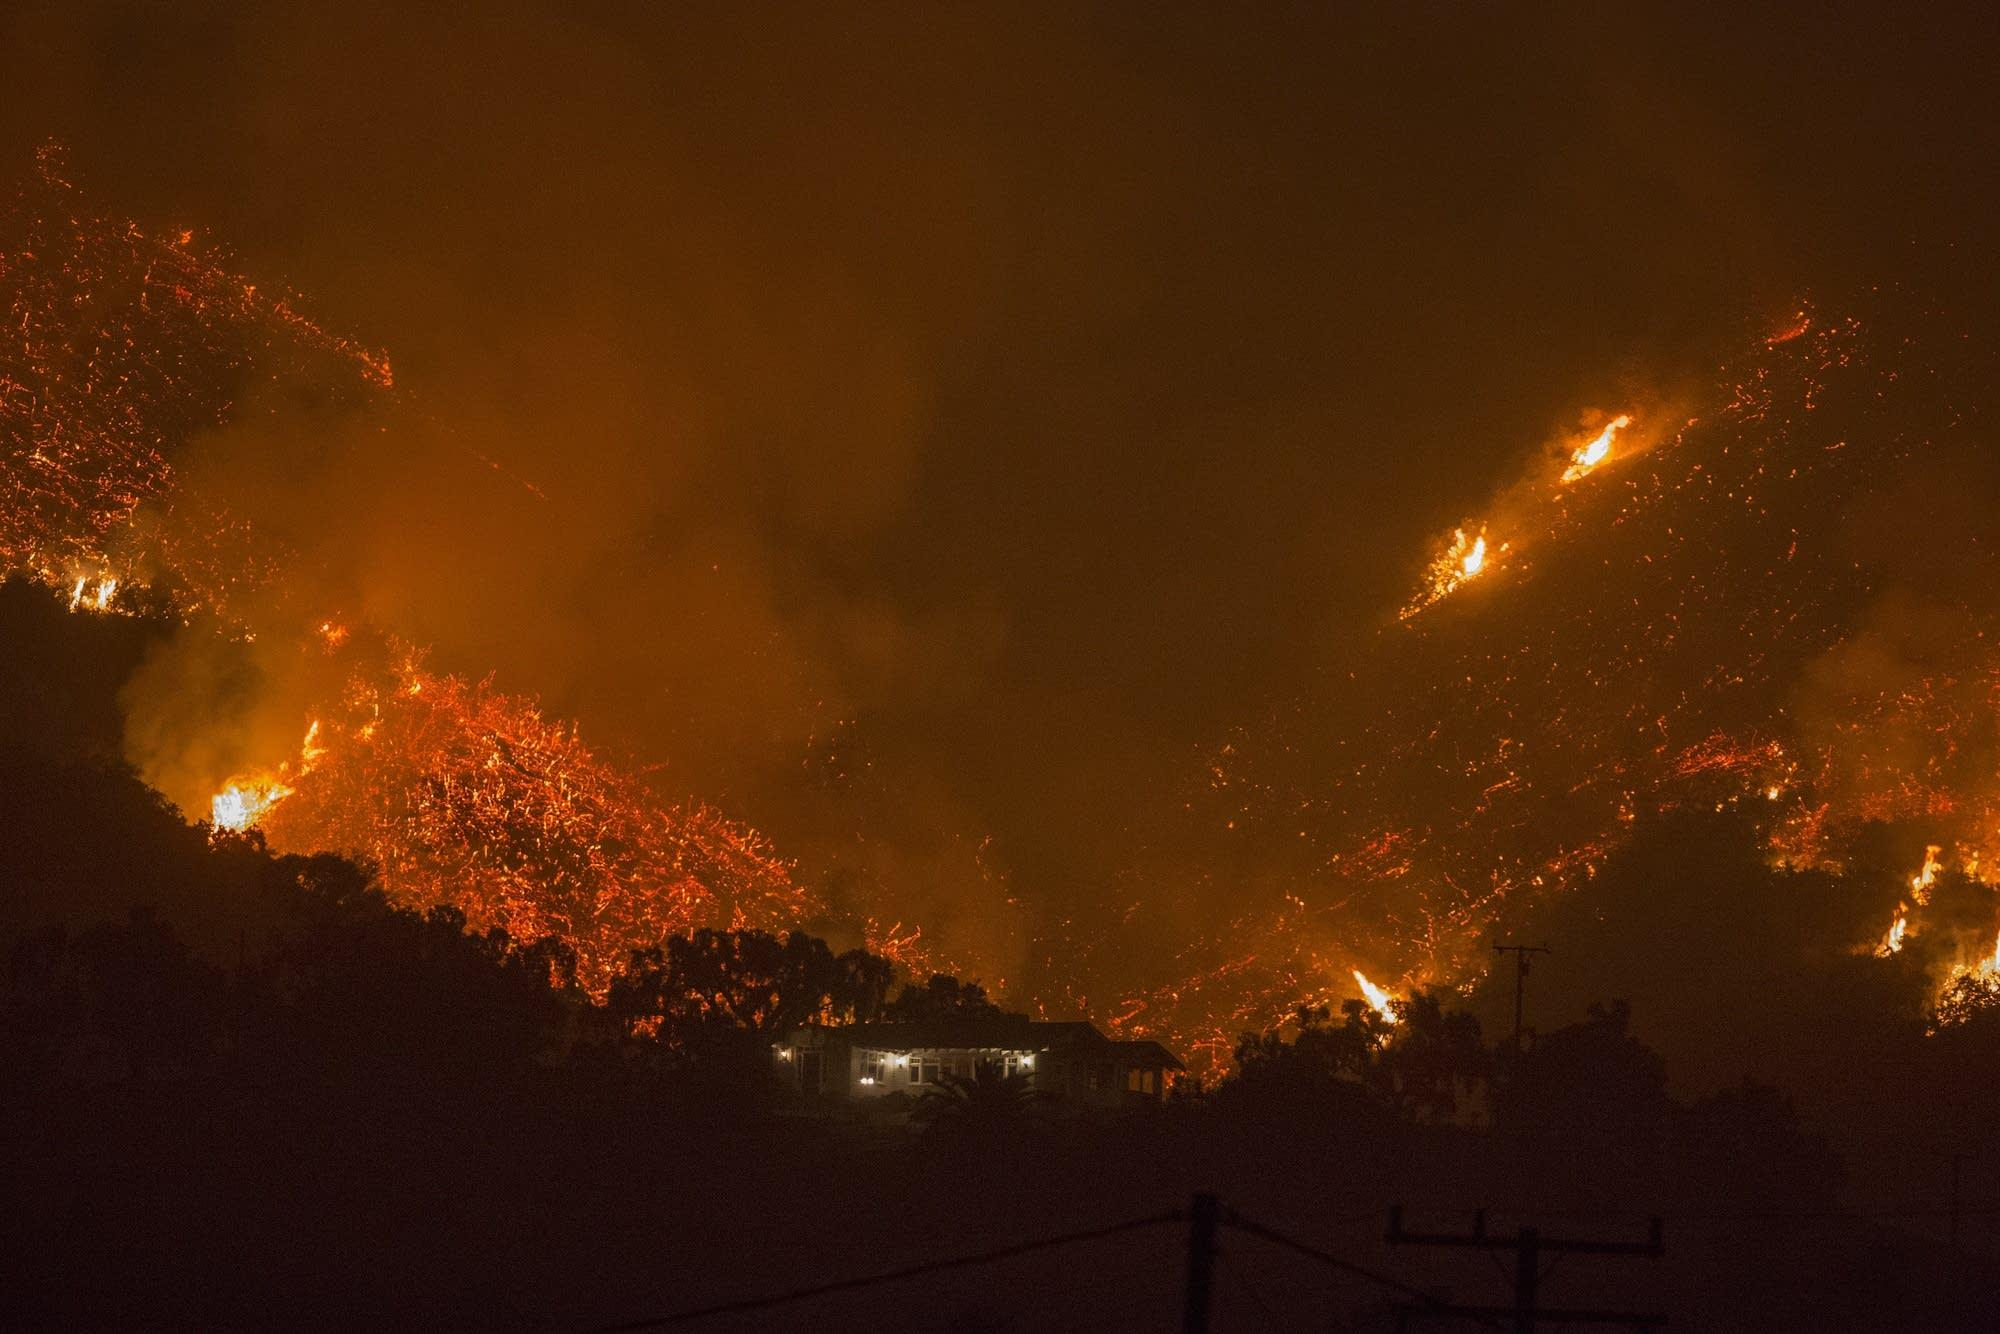Fire: (1170, 688, 2000, 1056), (196, 642, 946, 1035), (7, 200, 411, 615), (1412, 402, 1647, 607)
